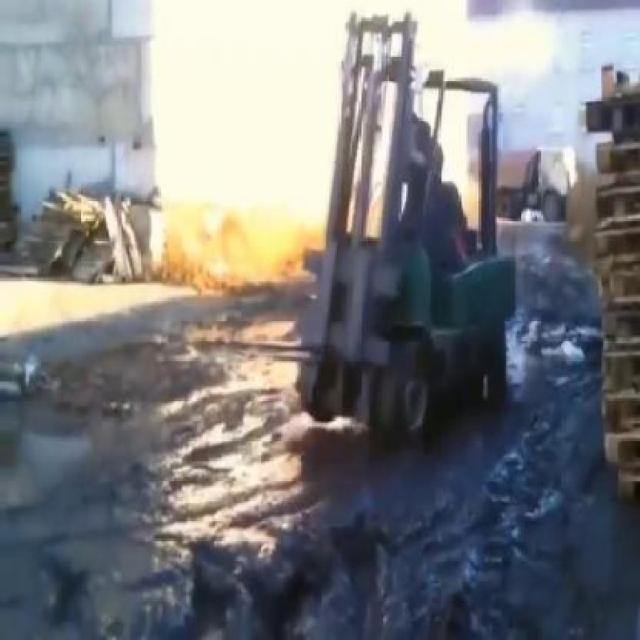forklift: (293, 11, 510, 434)
